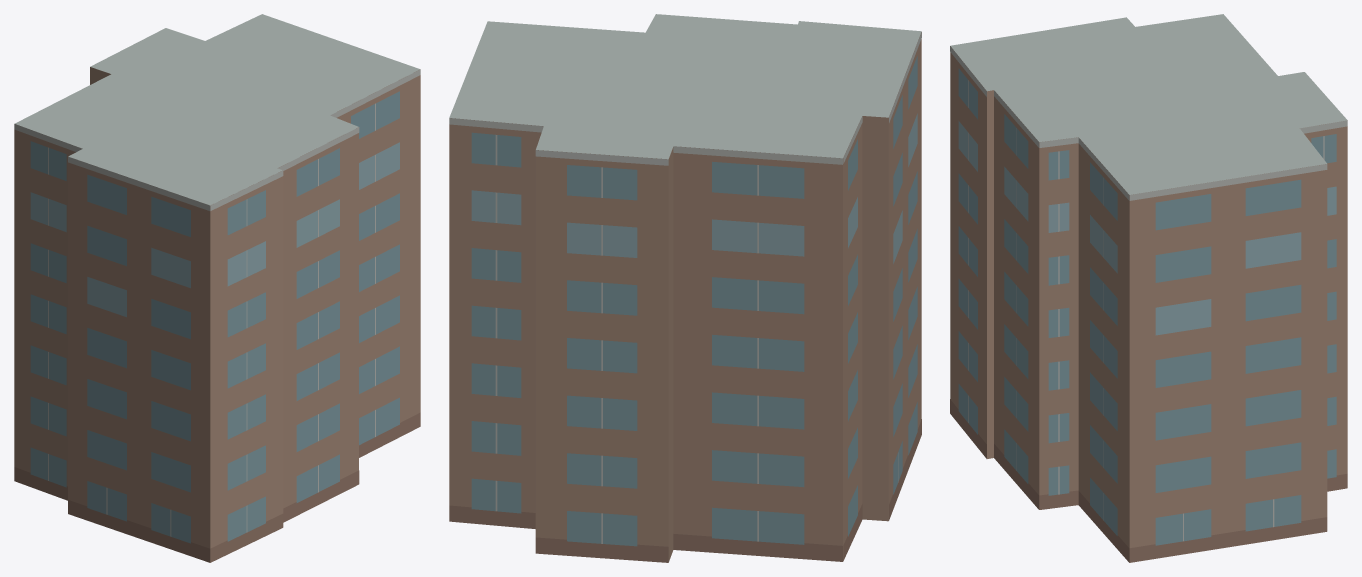
The model's file is survey-upis-32980947.glb.
3 renders of one model, left to right at view 1: azimuth 30°, elevation 25°; view 2: azimuth 150°, elevation 25°; view 3: azimuth 270°, elevation 25°, orthographic. The views are drawn at different scales.
Visible parts, largest first — view 1: survey-upis-32980947.tmp; view 2: survey-upis-32980947.tmp; view 3: survey-upis-32980947.tmp.
Boxes of the visible parts, x1,y1,x2,y2 form: survey-upis-32980947.tmp: [14, 14, 420, 562]; survey-upis-32980947.tmp: [449, 14, 921, 562]; survey-upis-32980947.tmp: [950, 14, 1347, 562].
Bounding box in the file's own units: 15.86 × 15.02 × 14.72.
